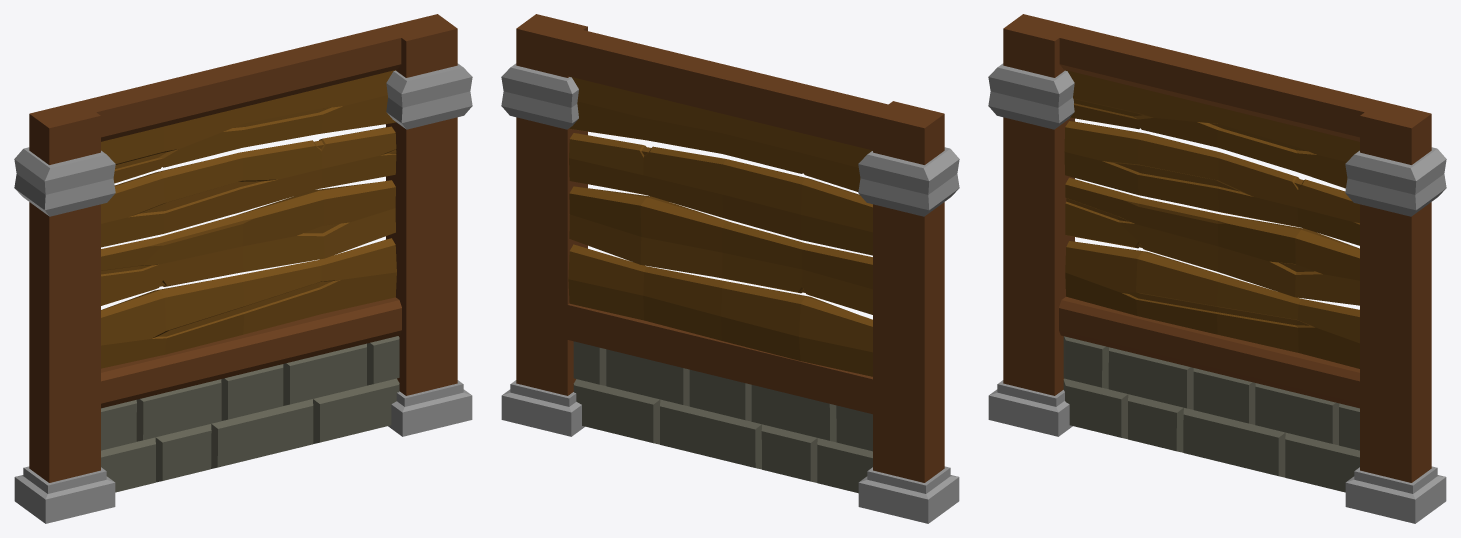
The model's file is Wall.fbx.
3 views of the same model, side by side, from view 1: azimuth 30°, elevation 25°; view 2: azimuth 150°, elevation 25°; view 3: azimuth 330°, elevation 25° (orthographic).
Parts seen in each view (by area): view 1: WallConstruction, WallPlanks, WallBricks, WallConstructionmetal; view 2: WallConstruction, WallPlanks, WallBricks, WallConstructionmetal; view 3: WallConstruction, WallPlanks, WallBricks, WallConstructionmetal.
Part boxes in pixels (left/top/right/bottom): WallConstruction: left=29, top=14, right=457, bottom=482; WallPlanks: left=101, top=70, right=396, bottom=368; WallBricks: left=101, top=336, right=399, bottom=492; WallConstructionmetal: left=14, top=63, right=472, bottom=523; WallConstruction: left=516, top=14, right=944, bottom=482; WallPlanks: left=568, top=76, right=872, bottom=376; WallBricks: left=573, top=341, right=872, bottom=493; WallConstructionmetal: left=501, top=63, right=959, bottom=523; WallConstruction: left=1003, top=14, right=1431, bottom=482; WallPlanks: left=1064, top=70, right=1359, bottom=368; WallBricks: left=1063, top=336, right=1359, bottom=492; WallConstructionmetal: left=988, top=63, right=1446, bottom=523.
Bounding box in the file's own units: 460 × 400 × 57.66.
